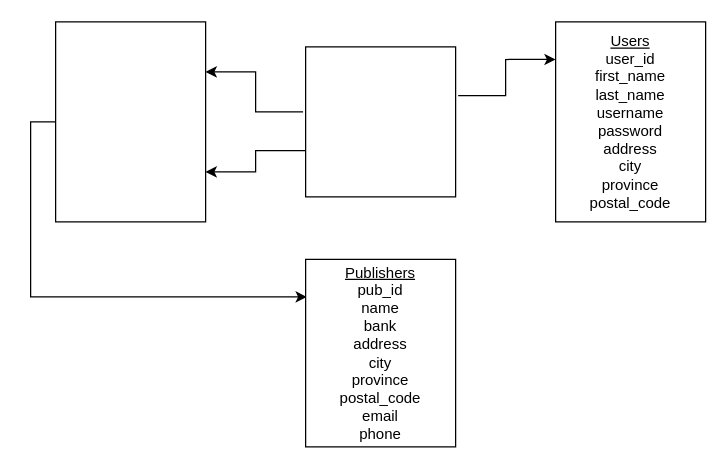
Some shapes in this 728 by 469 pixel diagram are drawn without their labels. The shapes that lost their labels are listed below. From the top down, each one's centre as x and y in pixels, then its label:
At (130,121): "Books isbn title author genre pub_id pages price quantity".
At (380,121): "Orders user_id isbn track_no price quantity".
